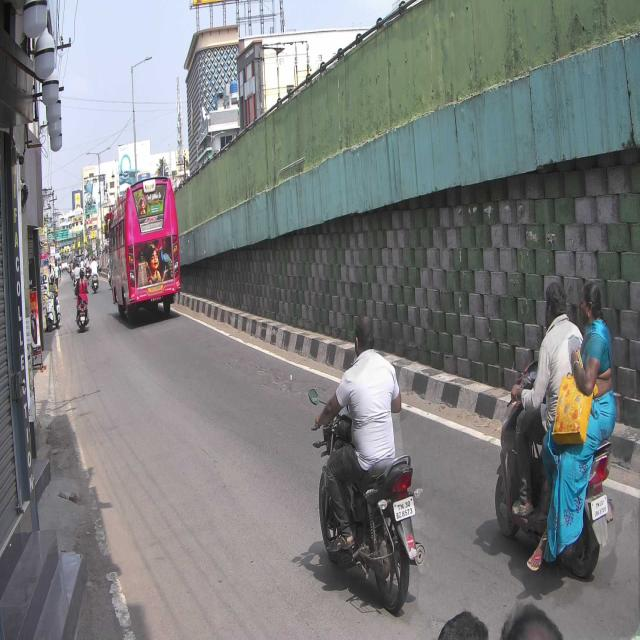double_rider: (495, 266, 617, 580)
single_rider: (302, 324, 421, 606)
